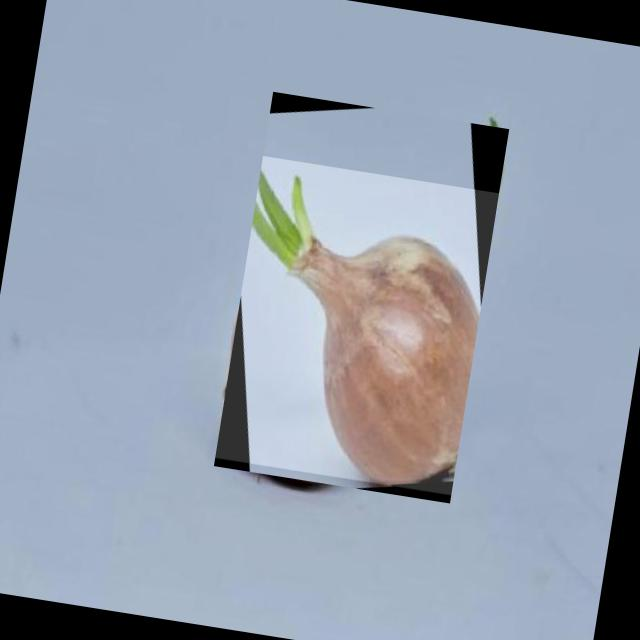sprouting: (252, 156, 480, 485)
